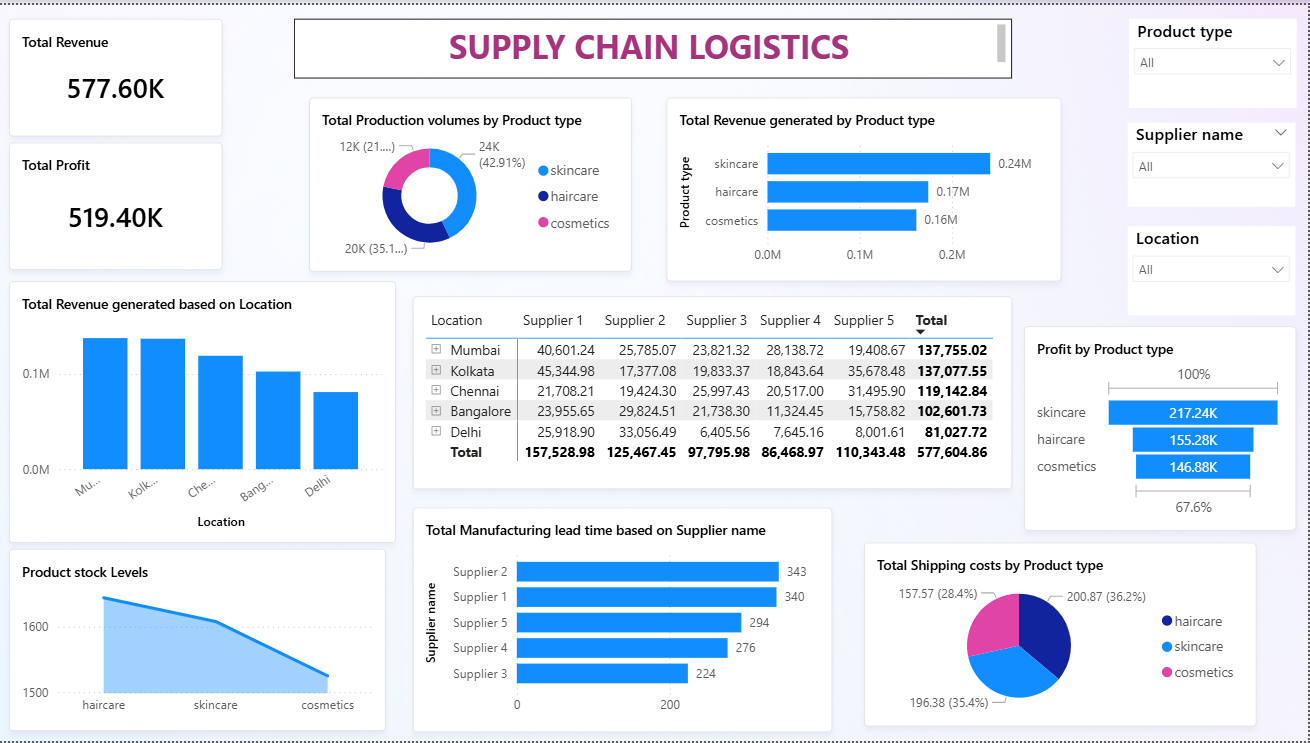

The dashboard page shown, as its layout file describes it:
{"tool":"powerbi","page":{"name":"Page 1","canvas":[1280,720],"ordinal":0},"visuals":[{"type":"card","title":"Total Revenue","fields":{"Values":["supply_chain_data.Total Revenue"]},"box":[10,13.8,208.8,115],"z":0},{"type":"barChart","title":"Total Revenue generated by Product type","fields":{"Category":["supply_chain_data.Product type"],"Y":["Sum(supply_chain_data.Revenue generated)"]},"box":[652.5,90,386.2,180],"z":1000},{"type":"pivotTable","fields":{"Rows":["supply_chain_data.Location","supply_chain_data.Product type"],"Values":["Sum(supply_chain_data.Revenue generated)"],"Columns":["supply_chain_data.Supplier name"]},"box":[405,285,586.2,188.8],"z":2000},{"type":"slicer","fields":{"Values":["supply_chain_data.Product type"]},"box":[1105,13.8,163.8,87.5],"z":3000},{"type":"slicer","fields":{"Values":["supply_chain_data.Location"]},"box":[1103.8,216.2,163.8,87.5],"z":4000},{"type":"slicer","fields":{"Values":["supply_chain_data.Supplier name"]},"box":[1103.8,115,163.8,82.5],"z":5000},{"type":"pieChart","title":"Total Shipping costs by Product type","fields":{"Category":["supply_chain_data.Product type"],"Y":["Sum(supply_chain_data.Shipping costs)"]},"box":[846.2,526.2,383.8,180],"z":6000},{"type":"clusteredColumnChart","title":"Total Revenue generated based on Location","fields":{"Category":["supply_chain_data.Location"],"Y":["Sum(supply_chain_data.Revenue generated)"]},"box":[10,270,378.8,256.2],"z":7000},{"type":"stackedAreaChart","title":"Product stock Levels","fields":{"Category":["supply_chain_data.Product type"],"Y":["Sum(supply_chain_data.Stock levels)"]},"box":[10,532.5,368.8,178.8],"z":8000},{"type":"funnel","fields":{"Y":["supply_chain_data.Profit"],"Category":["supply_chain_data.Product type"]},"box":[1002.5,313.8,266.2,200],"z":9000},{"type":"textbox","box":[288.8,13.8,702.5,58.8],"z":10000},{"type":"donutChart","title":"Total Production volumes by Product type","fields":{"Y":["Sum(supply_chain_data.Production volumes)"],"Category":["supply_chain_data.Product type"]},"box":[303.8,90,316.2,170],"z":11000},{"type":"card","title":"Total Profit","fields":{"Values":["supply_chain_data.Profit"]},"box":[10,135,208.8,125],"z":12000},{"type":"clusteredBarChart","title":"Total Manufacturing lead time based on Supplier name","fields":{"Y":["Sum(supply_chain_data.Manufacturing lead time)"],"Category":["supply_chain_data.Supplier name"]},"box":[405,491.2,410,220],"z":13000}]}

Visuals, with their boxes in screenshot pixels (x1, y1, x2, y2), scaled from the page's 1280x720 canvas onto the 1310x743 screenshot:
"Total Revenue" card: x1=10, y1=14, x2=224, y2=133
"Total Revenue generated by Product type" barChart: x1=668, y1=93, x2=1063, y2=279
pivotTable - supply_chain_data.Location x supply_chain_data.Product type: x1=414, y1=294, x2=1014, y2=489
slicer - supply_chain_data.Product type: x1=1131, y1=14, x2=1299, y2=105
slicer - supply_chain_data.Location: x1=1130, y1=223, x2=1297, y2=313
slicer - supply_chain_data.Supplier name: x1=1130, y1=119, x2=1297, y2=204
"Total Shipping costs by Product type" pieChart: x1=866, y1=543, x2=1259, y2=729
"Total Revenue generated based on Location" clusteredColumnChart: x1=10, y1=279, x2=398, y2=543
"Product stock Levels" stackedAreaChart: x1=10, y1=550, x2=388, y2=734
funnel - supply_chain_data.Profit x supply_chain_data.Product type: x1=1026, y1=324, x2=1298, y2=530
textbox: x1=296, y1=14, x2=1015, y2=75
"Total Production volumes by Product type" donutChart: x1=311, y1=93, x2=635, y2=268
"Total Profit" card: x1=10, y1=139, x2=224, y2=268
"Total Manufacturing lead time based on Supplier name" clusteredBarChart: x1=414, y1=507, x2=834, y2=734
